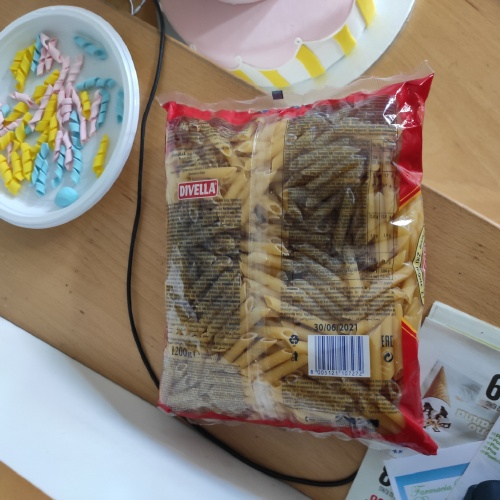pasta: (172, 107, 428, 441)
